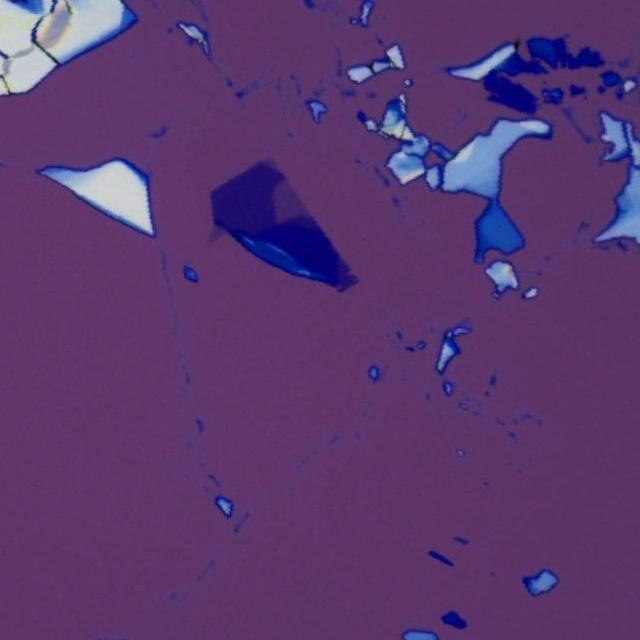monolayer-eWW4: (271, 177, 311, 222), (207, 225, 225, 246), (263, 158, 284, 172)
